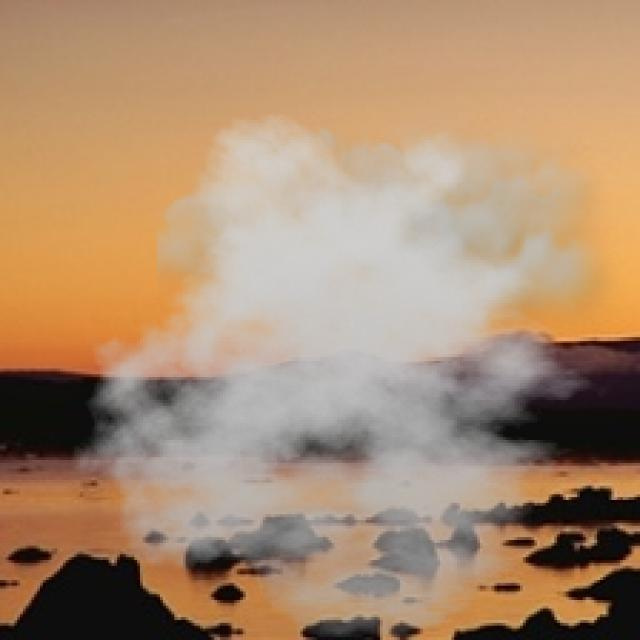smoke: (71, 97, 632, 637)
